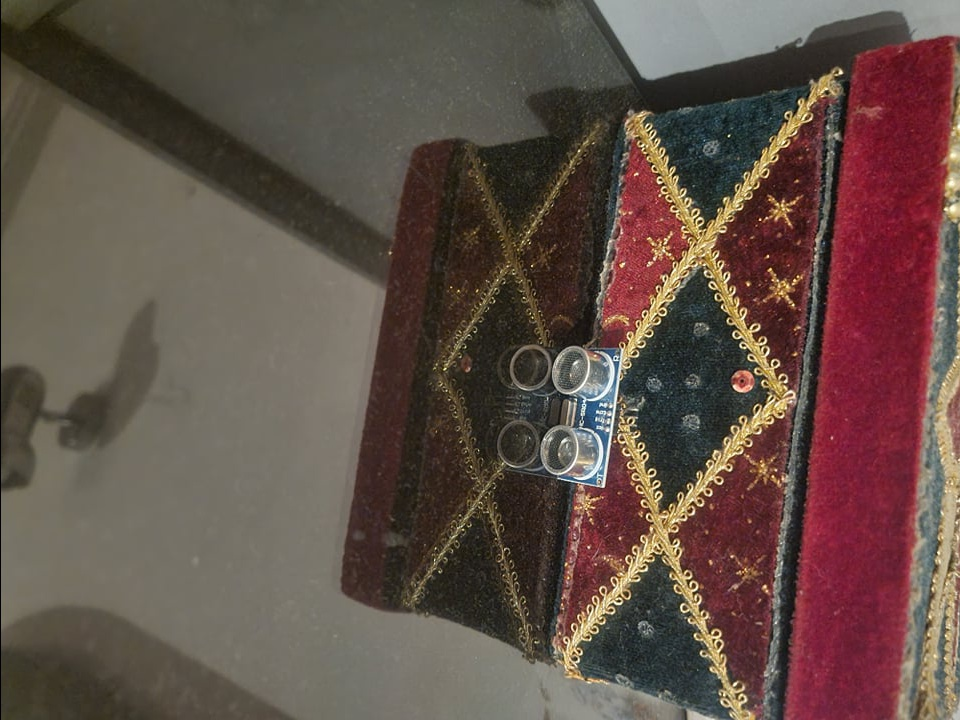SENSOR: (536, 347, 623, 488)
